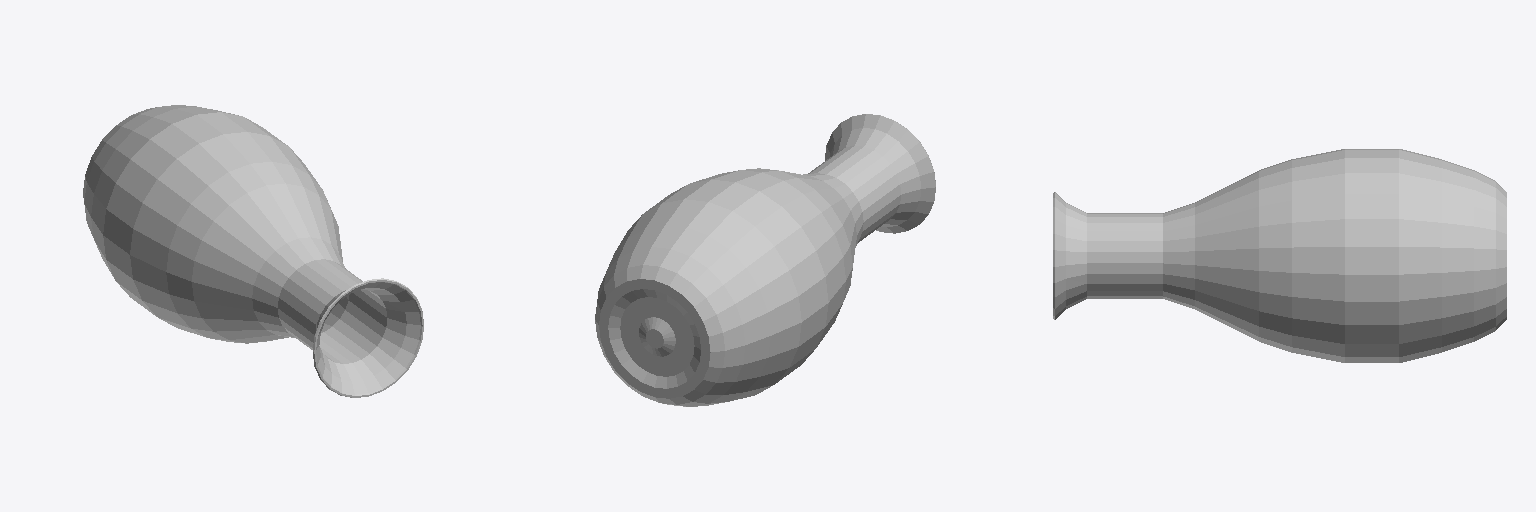
File: model_scale.obj
The picture shows the model from 3 angles: view 1: azimuth 30°, elevation 25°; view 2: azimuth 150°, elevation 25°; view 3: azimuth 270°, elevation 25°; orthographic projection.
Visible parts, largest first — view 1: mesh1_mesh1-geometry; view 2: mesh1_mesh1-geometry; view 3: mesh1_mesh1-geometry.
Part boxes in pixels (bbox=[...]): mesh1_mesh1-geometry: bbox=[83, 105, 423, 397]; mesh1_mesh1-geometry: bbox=[595, 114, 935, 406]; mesh1_mesh1-geometry: bbox=[1053, 149, 1506, 362].
Size of the model in its own units: 0.0641 by 0.0641 by 0.1346.